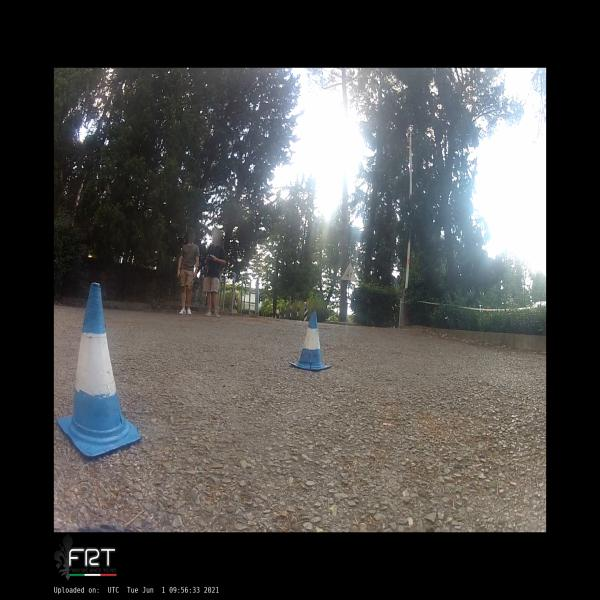blue_cone: (57, 282, 142, 458), (289, 311, 331, 372)
